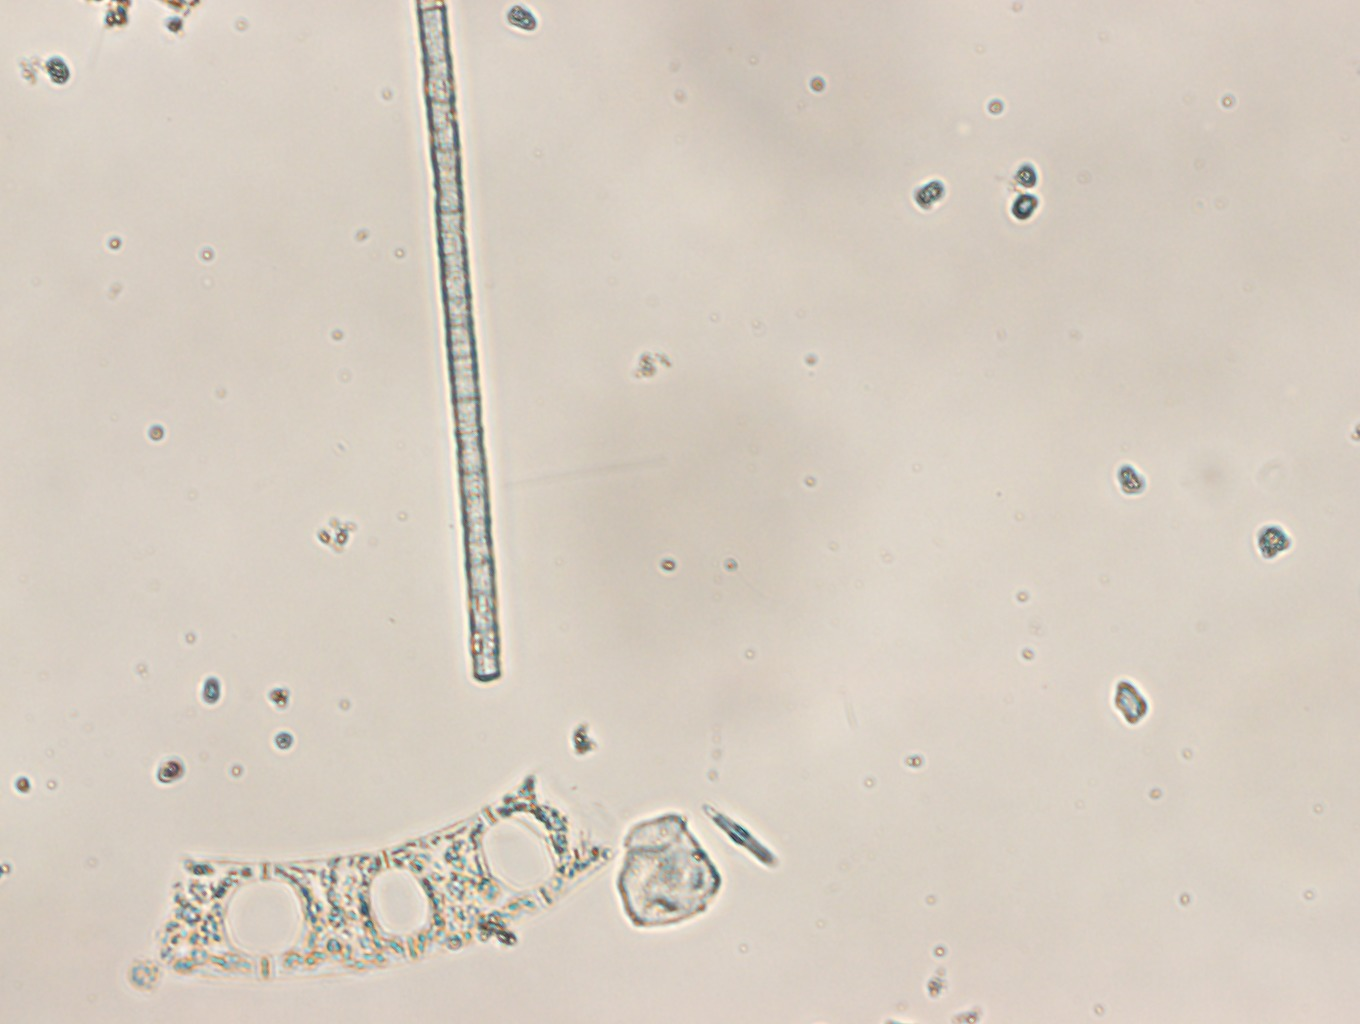eucampia: (155, 766, 619, 980)
